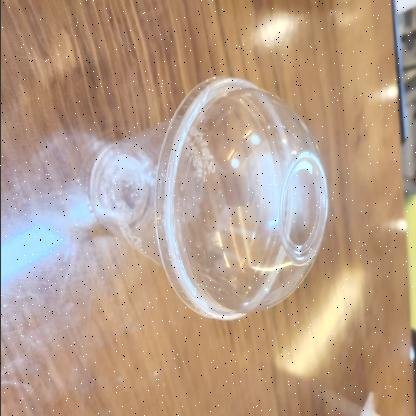Others: (87, 76, 326, 320)
